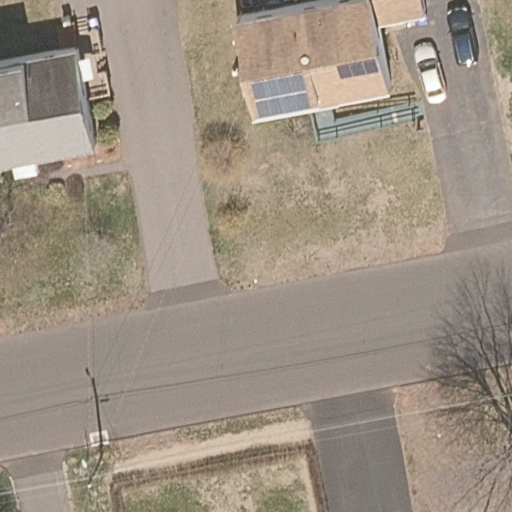DT: (85, 447, 103, 490)
